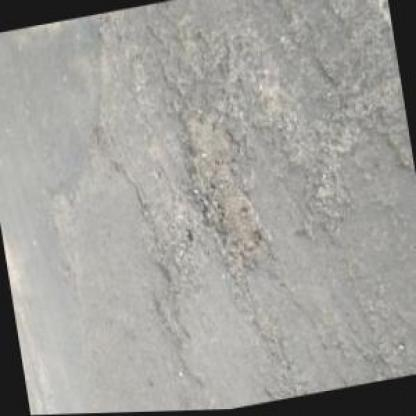pothole: (174, 99, 278, 280), (140, 197, 200, 287)
